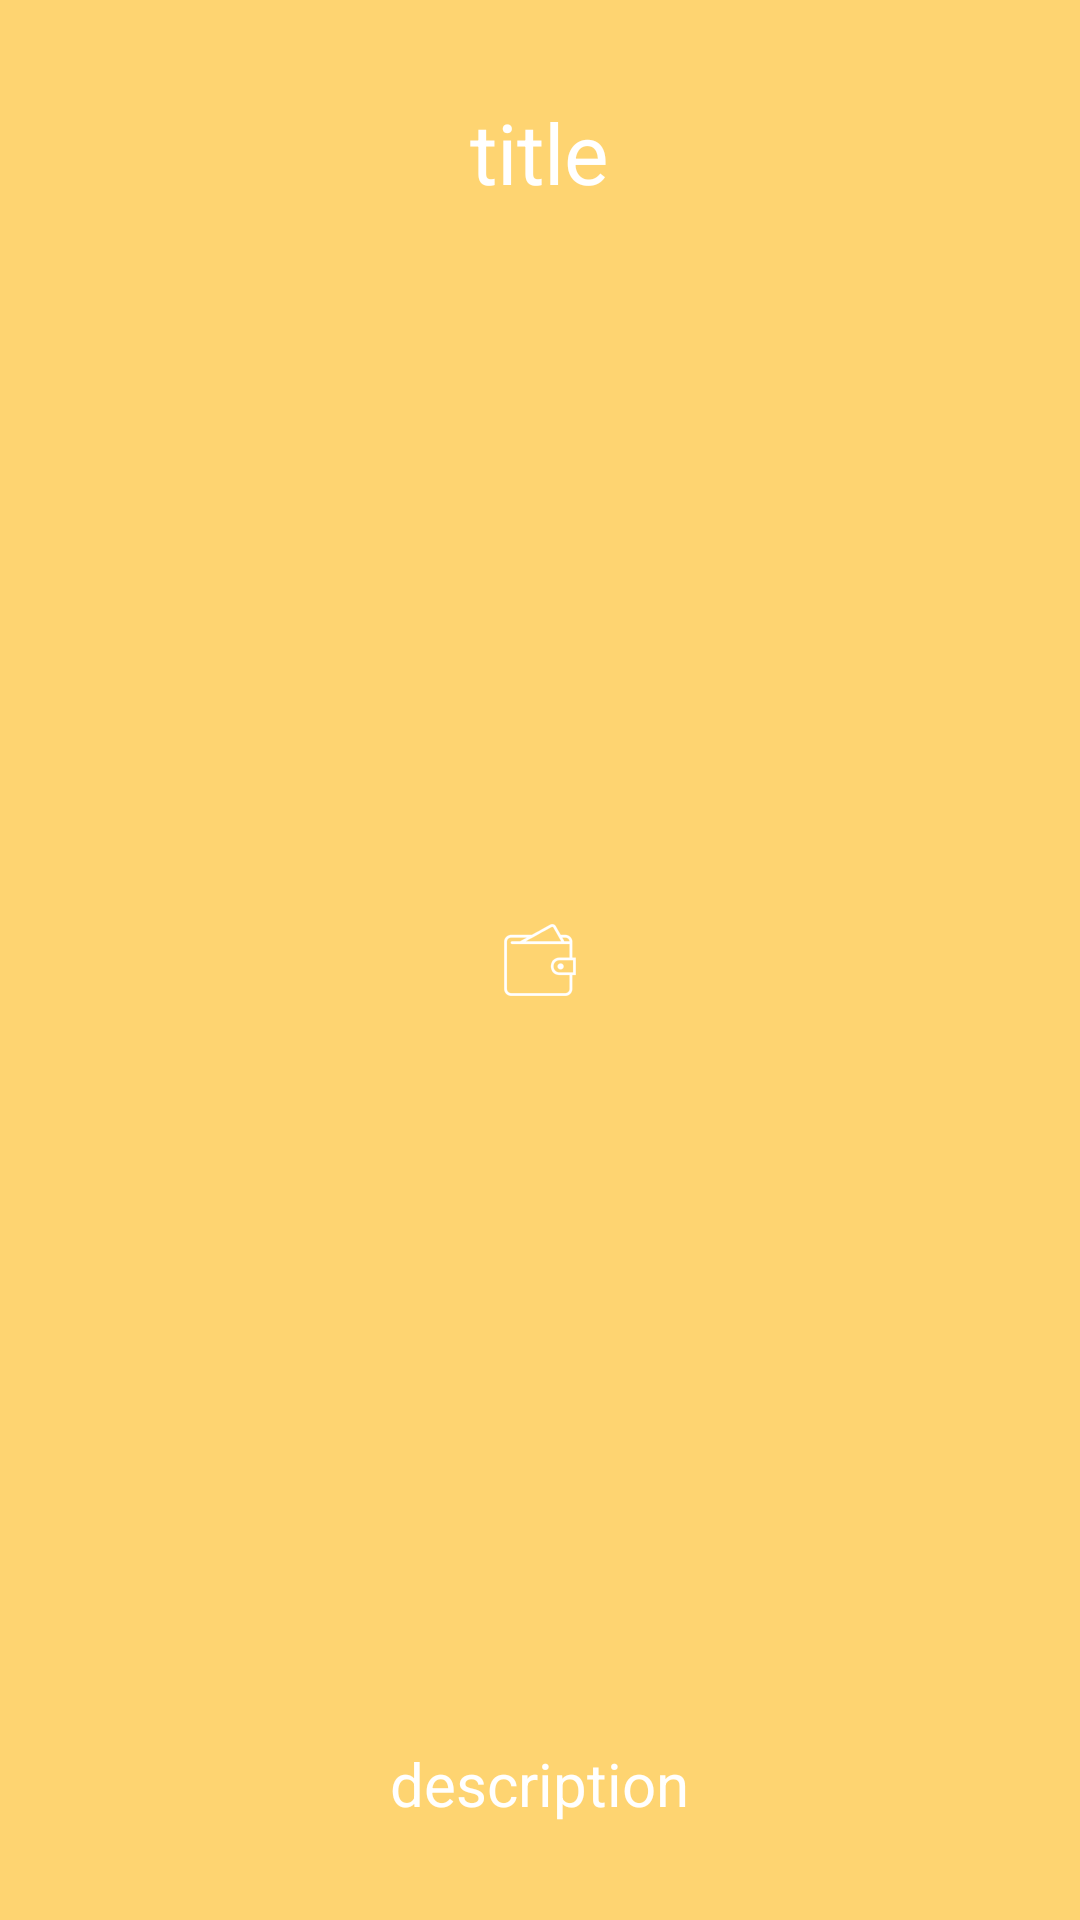

Icons on this 1080 x 1920 Android screen, each with the point to tap as (x,y):
wallet: (540,960)
